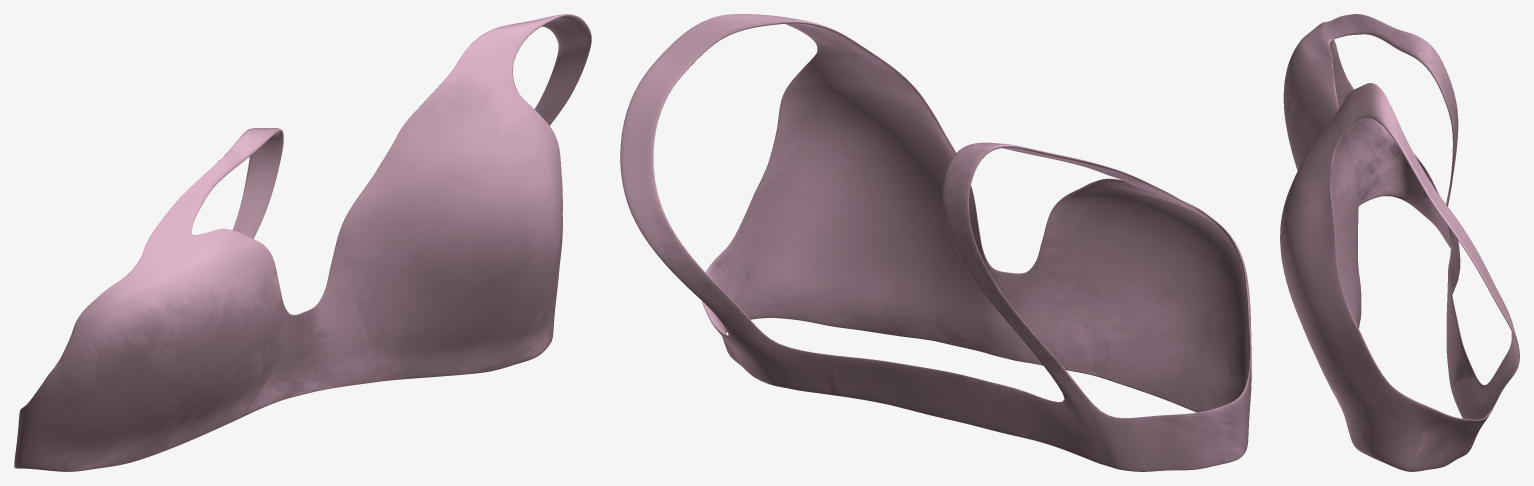
Rendered from gardener_bra.fbx.
The picture shows the model from 3 angles, left to right: view 1: azimuth 30°, elevation 25°; view 2: azimuth 150°, elevation 25°; view 3: azimuth 270°, elevation 25°; orthographic projection. The views are drawn at different scales.
Parts seen in each view (by area): view 1: gardener_bra; view 2: gardener_bra; view 3: gardener_bra.
Part boxes in pixels (box(x1,y1,x2,y2)): gardener_bra: box(14, 14, 591, 471); gardener_bra: box(620, 14, 1251, 471); gardener_bra: box(1280, 14, 1519, 471).
Bounding box in the file's own units: 13.02 × 7.17 × 4.27.
1 material, 1 textured.
